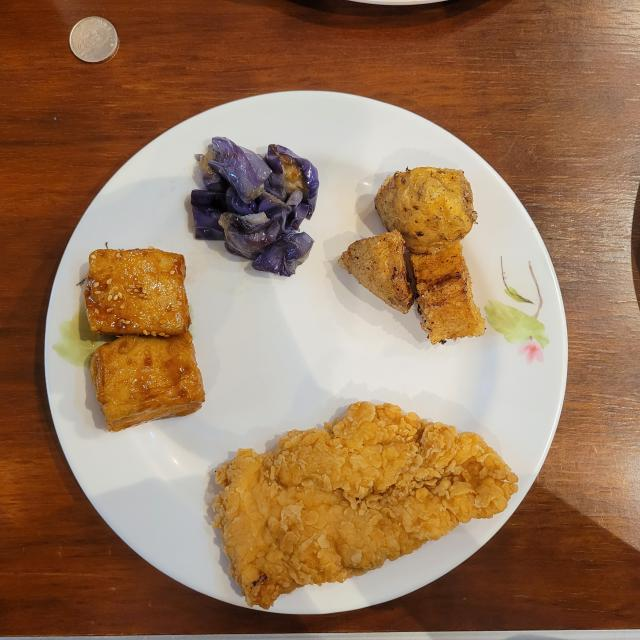coin: (70, 16, 119, 62)
creamy tofu: (85, 248, 205, 431)
fried chicken cutlet: (212, 401, 518, 609)
fried potato: (339, 168, 485, 344)
